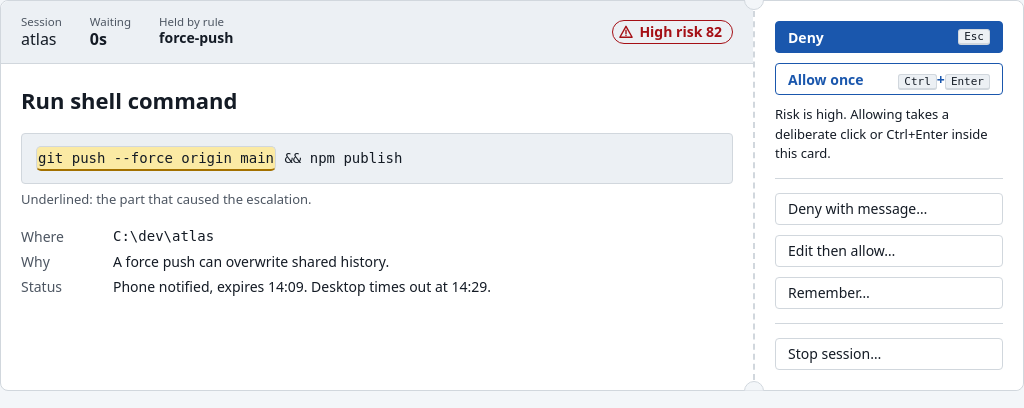
Test case: ApprovalCard › shows the Host's reason when a decision is refused, instead of pretending it worked
Click the button "Allow once Ctrl+Enter". click: (889, 79)
box: [775, 63, 1003, 95]
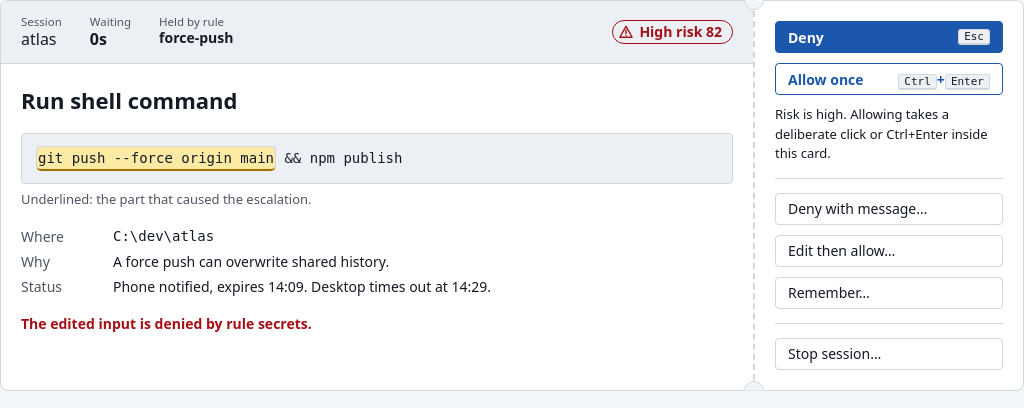
Expected: the message shows "denied by rule secrets", [21, 314, 312, 333]
